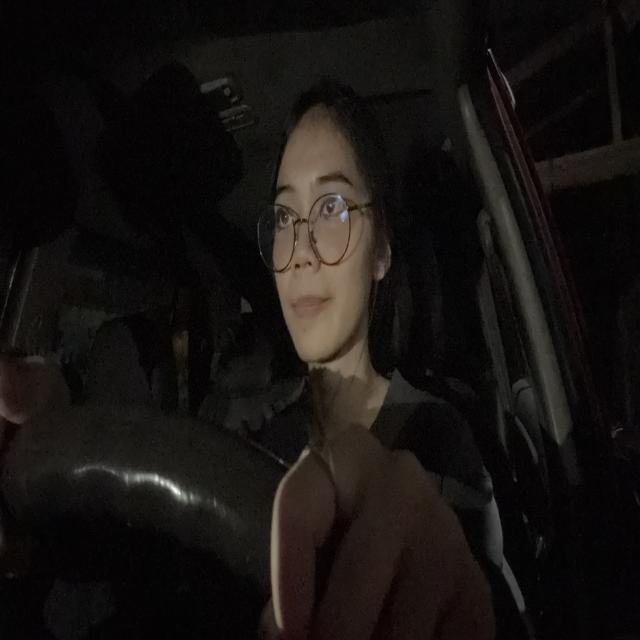open: (314, 170, 358, 232), (272, 182, 299, 235)
